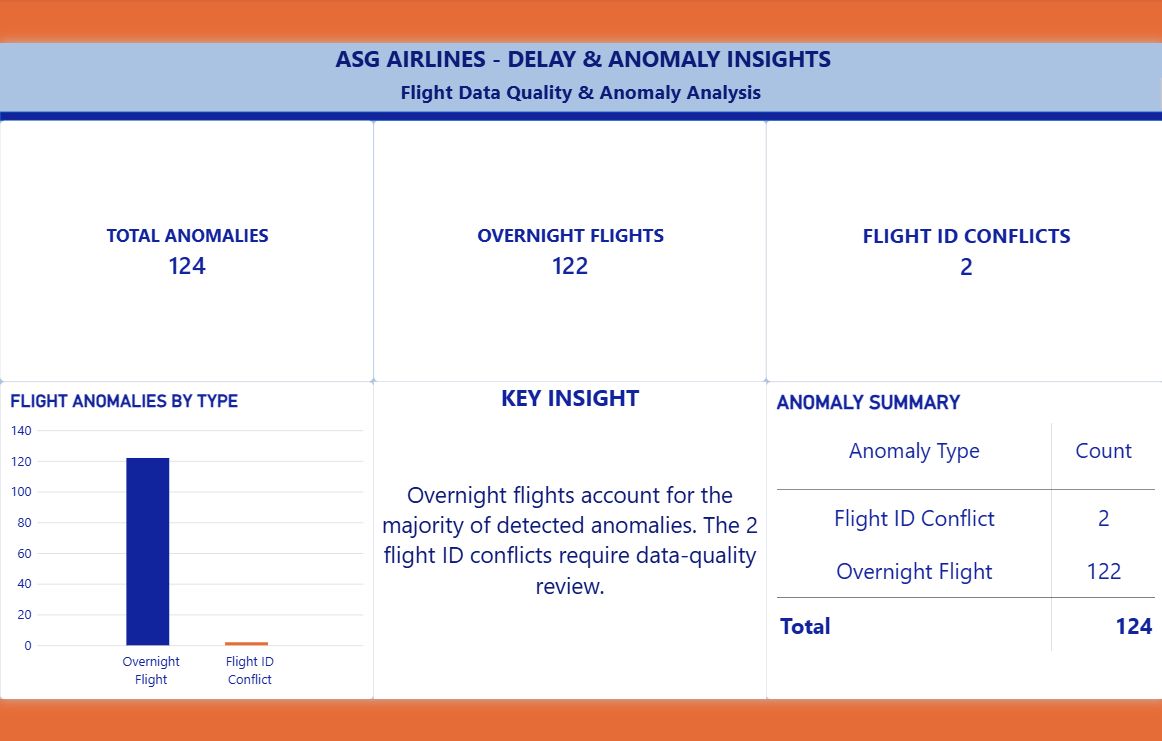

The page's visual inventory and layout, read from the dashboard file:
{"tool":"powerbi","page":{"name":"Delay & Anomaly Insights","canvas":[1920,1080],"ordinal":4},"visuals":[{"type":"clusteredColumnChart","title":"FLIGHT ANOMALIES BY TYPE","fields":{"Category":["anomaly_summary.anomaly_type"],"Y":["Sum(anomaly_summary.count)"]},"box":[0,557.8,615.4,522.8],"z":0},{"type":"tableEx","title":"ANOMALY SUMMARY","fields":{"Values":["anomaly_summary.anomaly_type","Sum(anomaly_summary.count)"]},"box":[1261.8,557.8,658.7,522.8],"z":1000},{"type":"cardVisual","title":"Flight ID Conflicts","fields":{"Data":["Sum(anomaly_summary.count)"]},"box":[1261.8,127.6,658.7,430.2],"z":2000},{"type":"cardVisual","title":"Overnight Flights","fields":{"Data":["Sum(anomaly_summary.count)"]},"box":[615.4,127.6,646.3,430.2],"z":3000},{"type":"textbox","box":[0,0,1920.4,113.2],"z":4000},{"type":"textbox","box":[0,57.6,1920.4,55.6],"z":5000},{"type":"shape","box":[0,113.2,1920.4,14.4],"z":6000},{"type":"cardVisual","fields":{"Data":["Sum(anomaly_summary.count)"]},"box":[0,127.6,615.4,430.2],"z":7000},{"type":"textbox","box":[615,558,646,522],"z":8000}]}

Visuals, with their boxes on the page's 1920x1080 design canvas (x1, y1, x2, y2). These are canvas units, not pixel positions in the 1162x741 screenshot, which may show the page scaled, cropped or inside an application window:
"FLIGHT ANOMALIES BY TYPE" clusteredColumnChart: <bbox>0, 558, 615, 1081</bbox>
"ANOMALY SUMMARY" tableEx: <bbox>1262, 558, 1920, 1081</bbox>
"Flight ID Conflicts" cardVisual: <bbox>1262, 128, 1920, 558</bbox>
"Overnight Flights" cardVisual: <bbox>615, 128, 1262, 558</bbox>
textbox: <bbox>0, 0, 1920, 113</bbox>
textbox: <bbox>0, 58, 1920, 113</bbox>
shape: <bbox>0, 113, 1920, 128</bbox>
cardVisual - Sum(anomaly_summary.count): <bbox>0, 128, 615, 558</bbox>
textbox: <bbox>615, 558, 1261, 1080</bbox>
